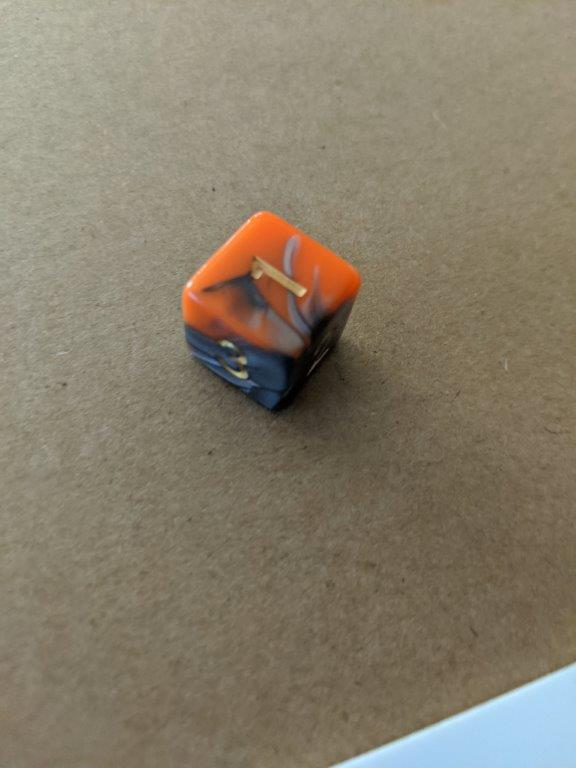d6-1: (179, 209, 358, 410)
